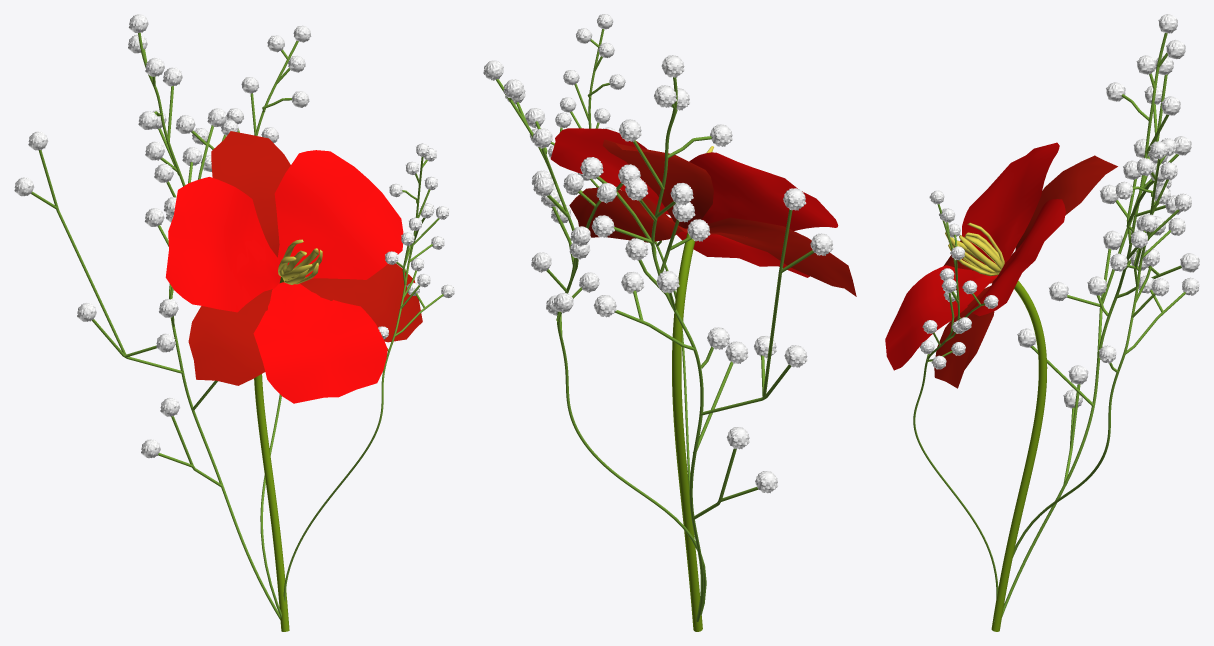
File: flower6.glb
3 views of the same model, side by side, from view 1: azimuth 30°, elevation 25°; view 2: azimuth 150°, elevation 25°; view 3: azimuth 270°, elevation 25° (orthographic). The views are drawn at different scales.
Parts seen in each view (by area): view 1: Plane.004; view 2: Plane.004; view 3: Plane.004.
Boxes of the visible parts, <box> form: Plane.004: <box>14,14,454,631</box>; Plane.004: <box>483,14,856,631</box>; Plane.004: <box>885,14,1199,631</box>.
Size of the model in its own units: 0.4624 by 0.7444 by 0.3631.
